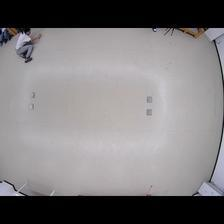fall: (15, 28, 43, 63)
